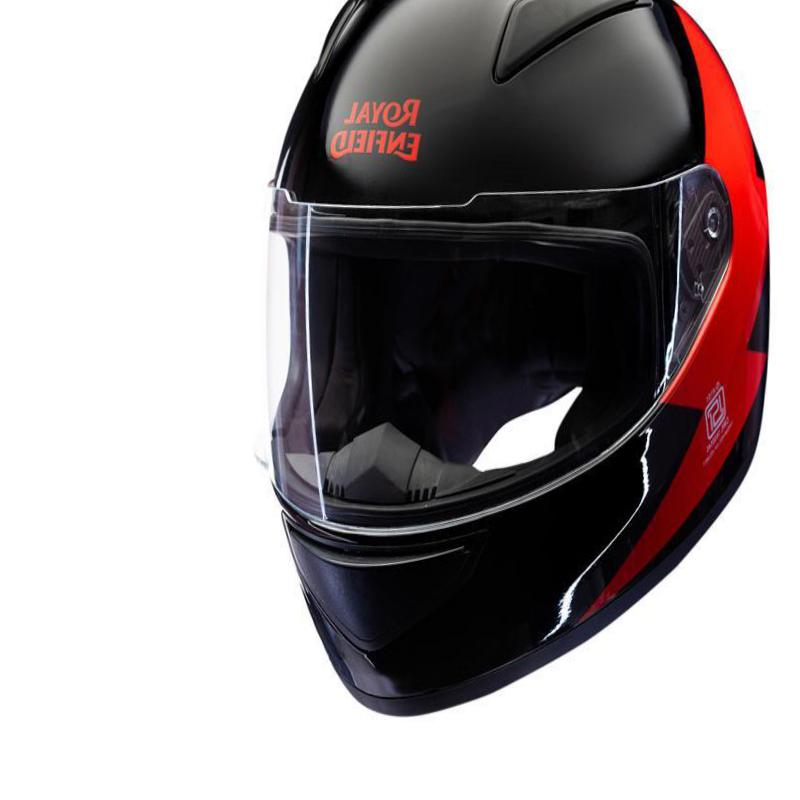helmet: (78, 1, 800, 740)
